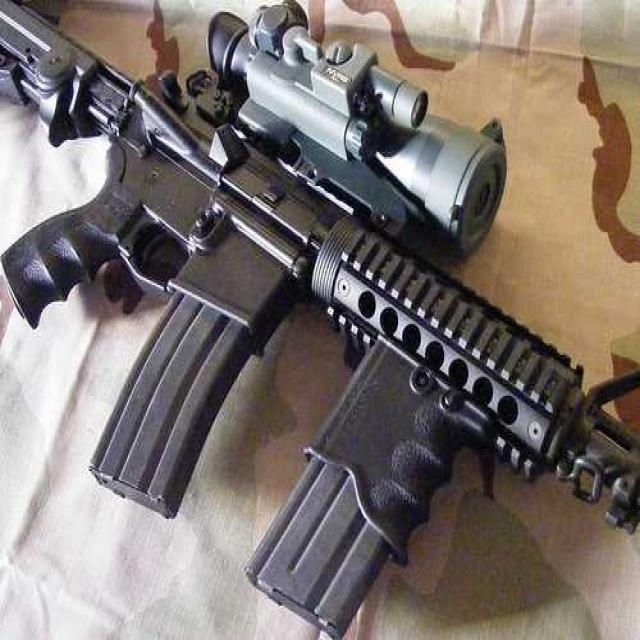RifleTel: (3, 0, 638, 636)
